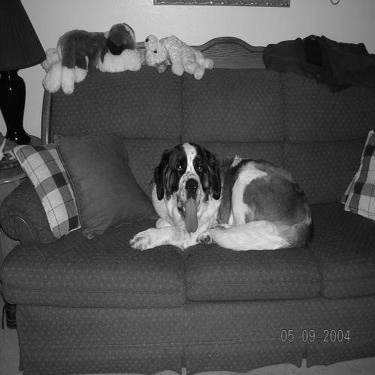dog: (107, 136, 319, 261)
